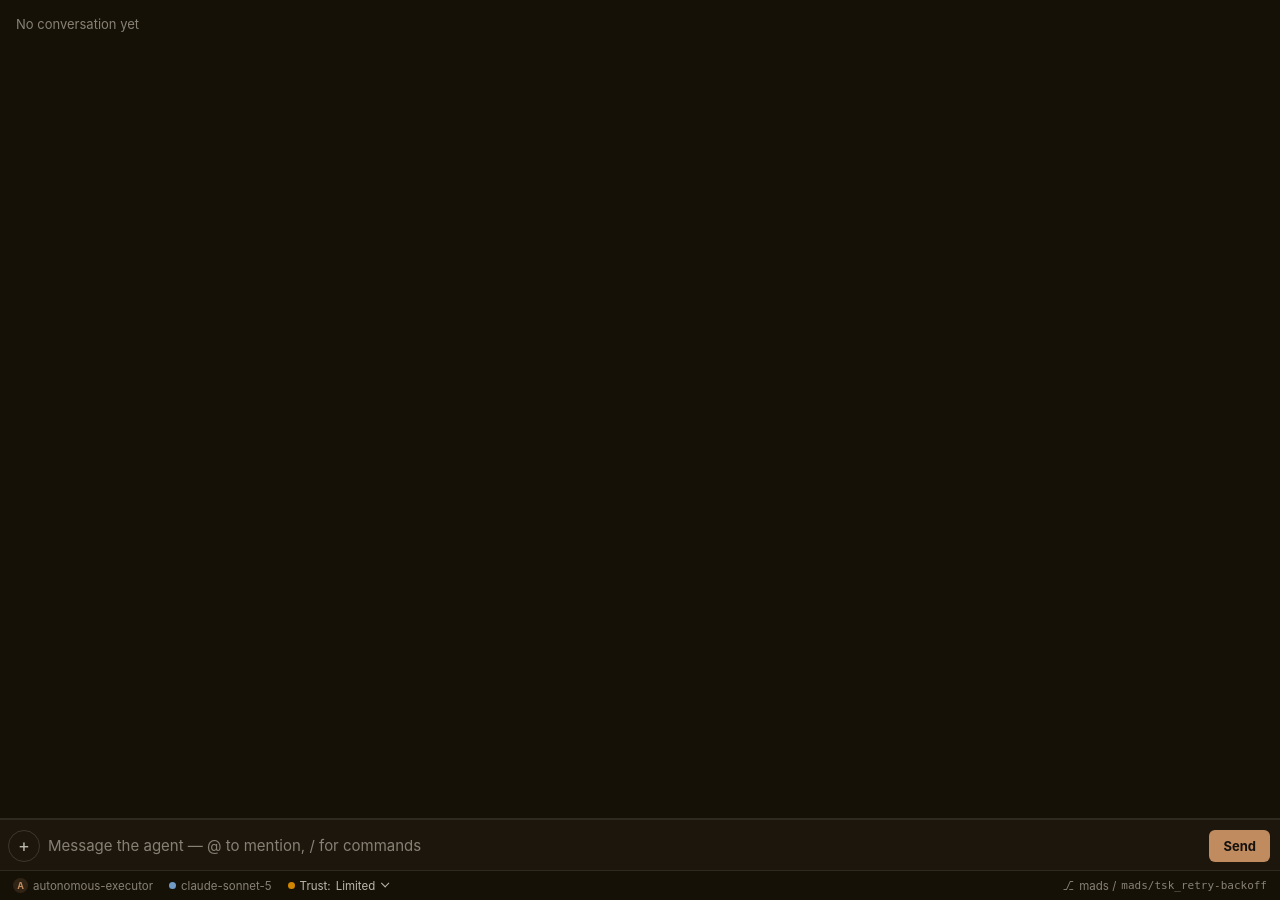
ConversationTab — keyed conversation › shows a send the stream reported unsaved as not delivered, with the send's error and Retry
In the text box with placeholder "Message the agent — @ to mention, / for commands": (625, 846) [46, 830, 1204, 862], type "deploy"
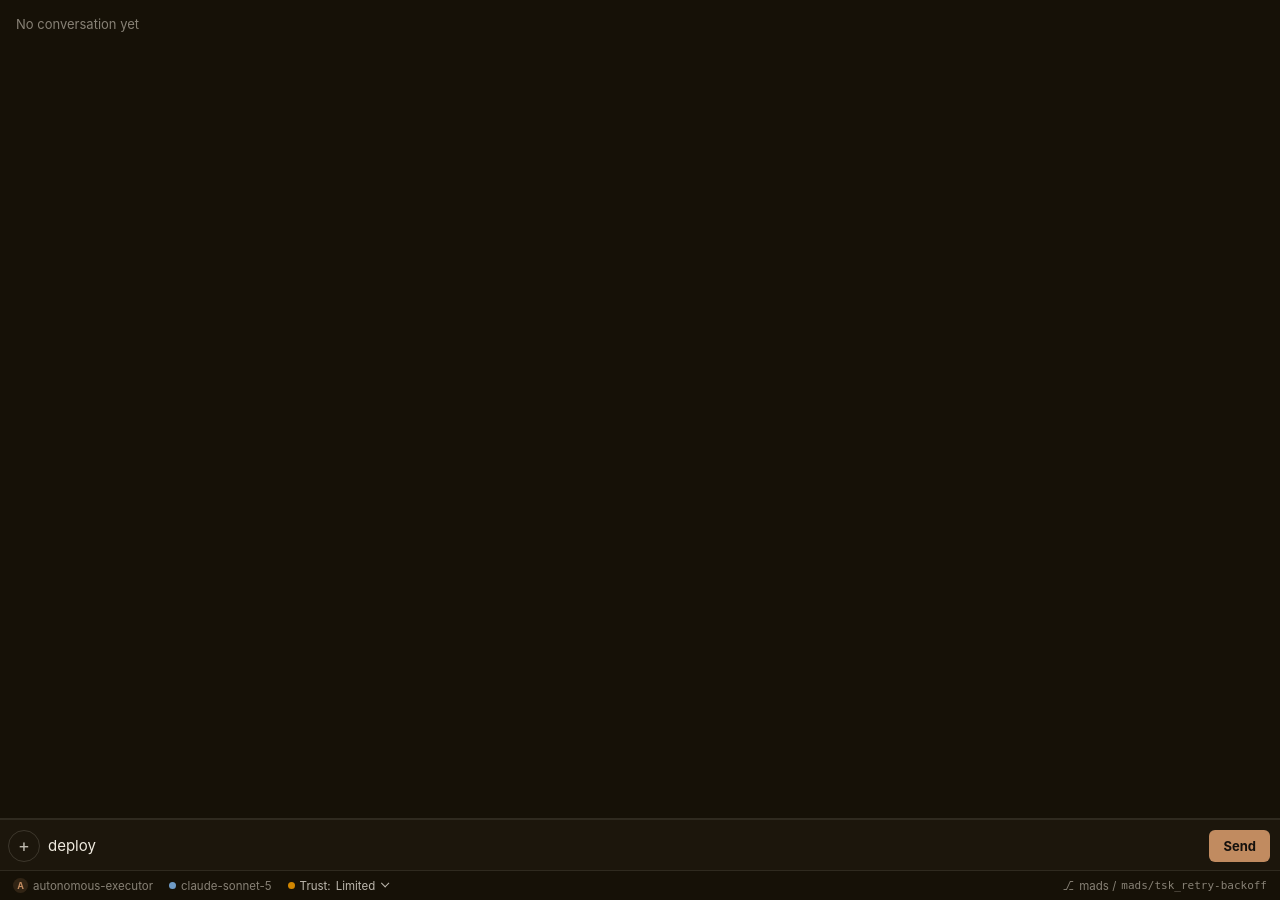
Click the button "Send": (1240, 846) [1210, 830, 1270, 862]
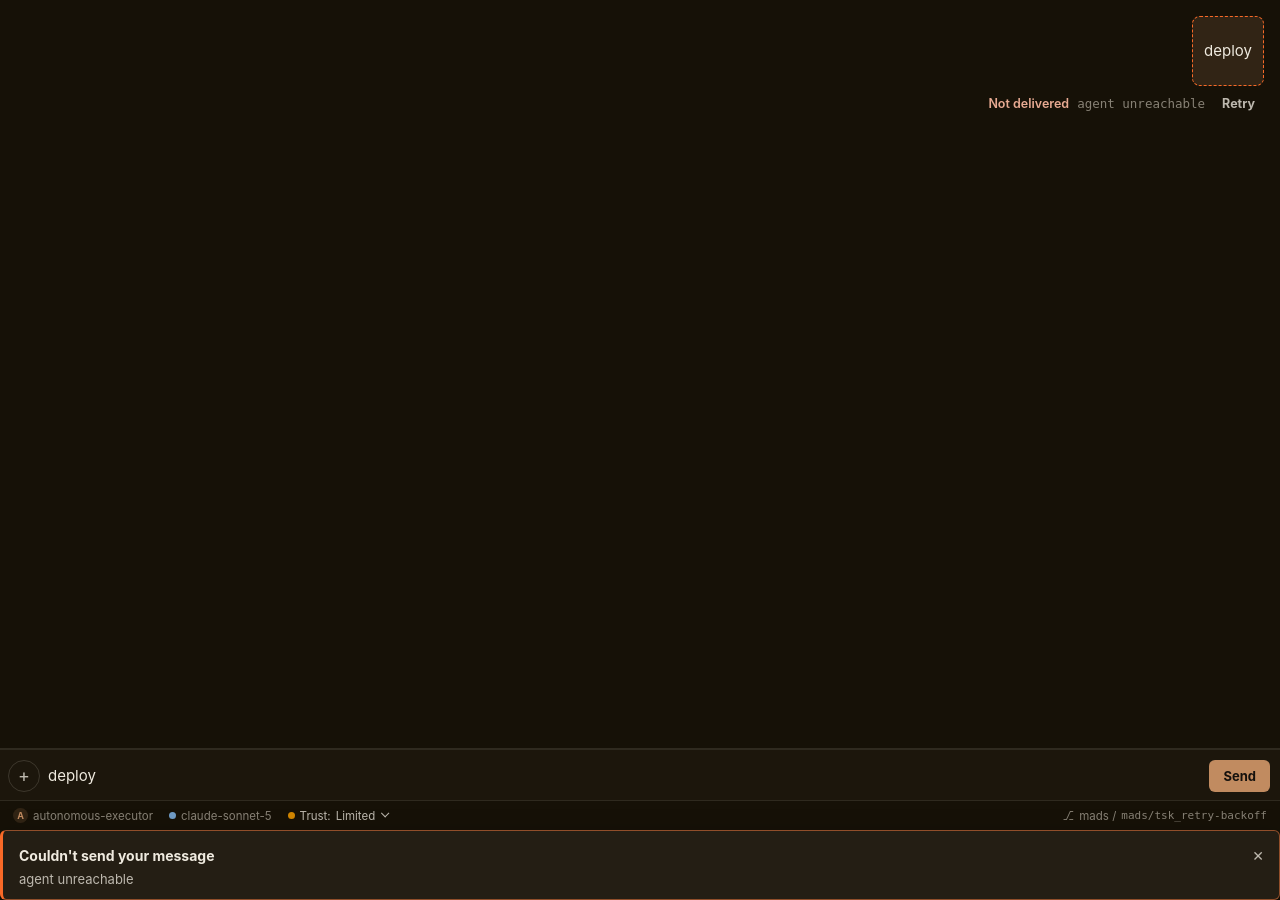
Check: the message "Working…" is not shown
Check: the text "Couldn't send your message" is shown, box [19, 847, 214, 864]
Check: the element showing "Not delivered agent unreachable Retry" is shown, box [988, 16, 1264, 116]
Click the button "Retry": (1239, 103) [1213, 90, 1264, 116]
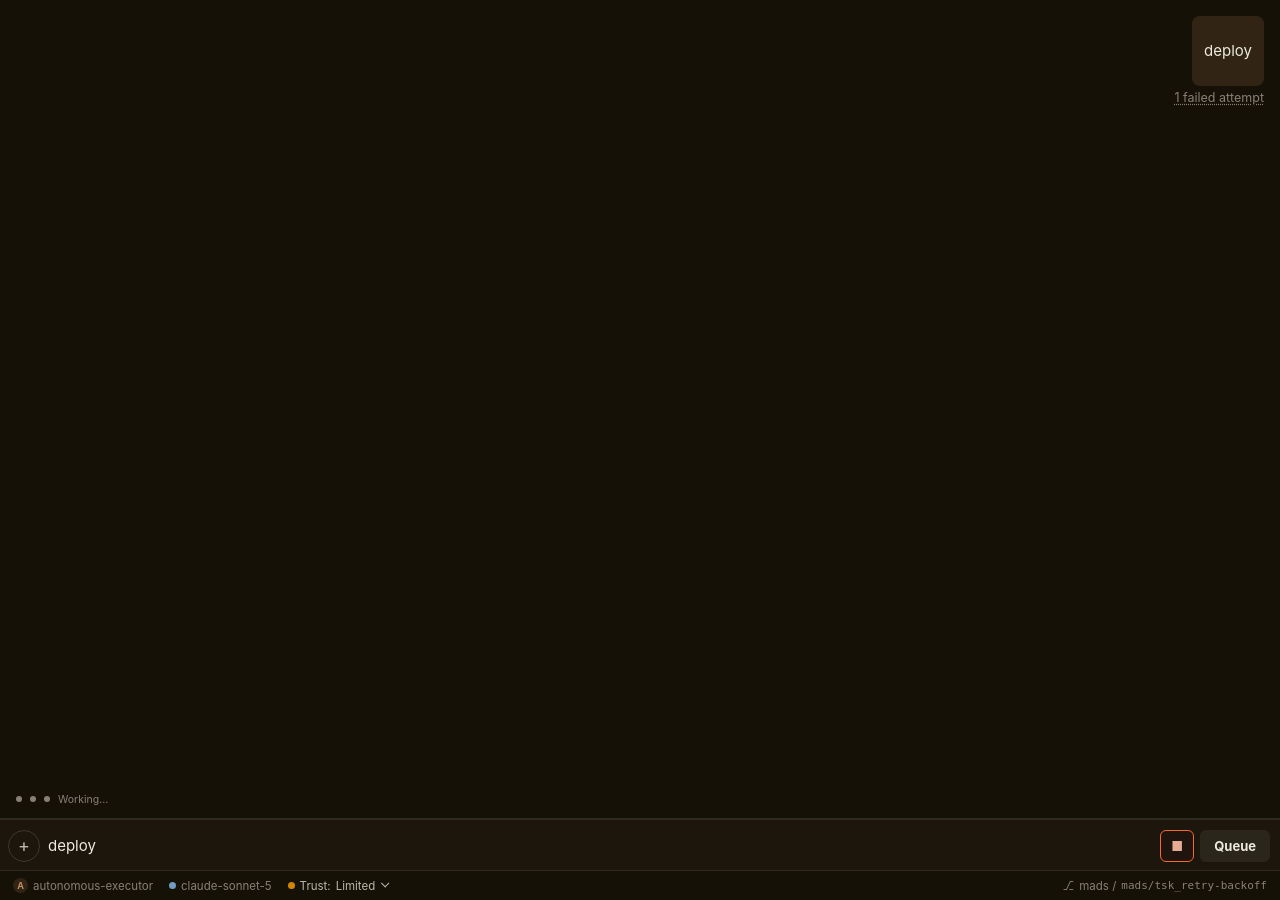
Check: the text "deploy" is shown once, box [1204, 39, 1252, 63]
Check: the button "1 failed attempt" is shown, box [1174, 90, 1264, 105]
